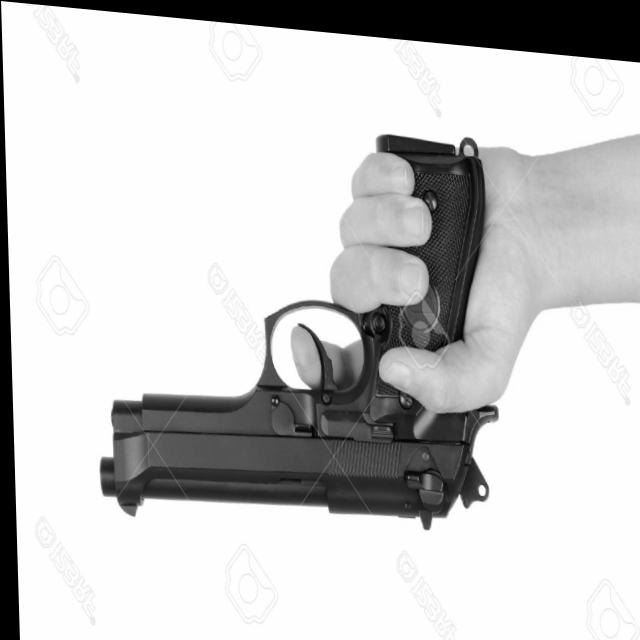handgun: (85, 97, 500, 545)
